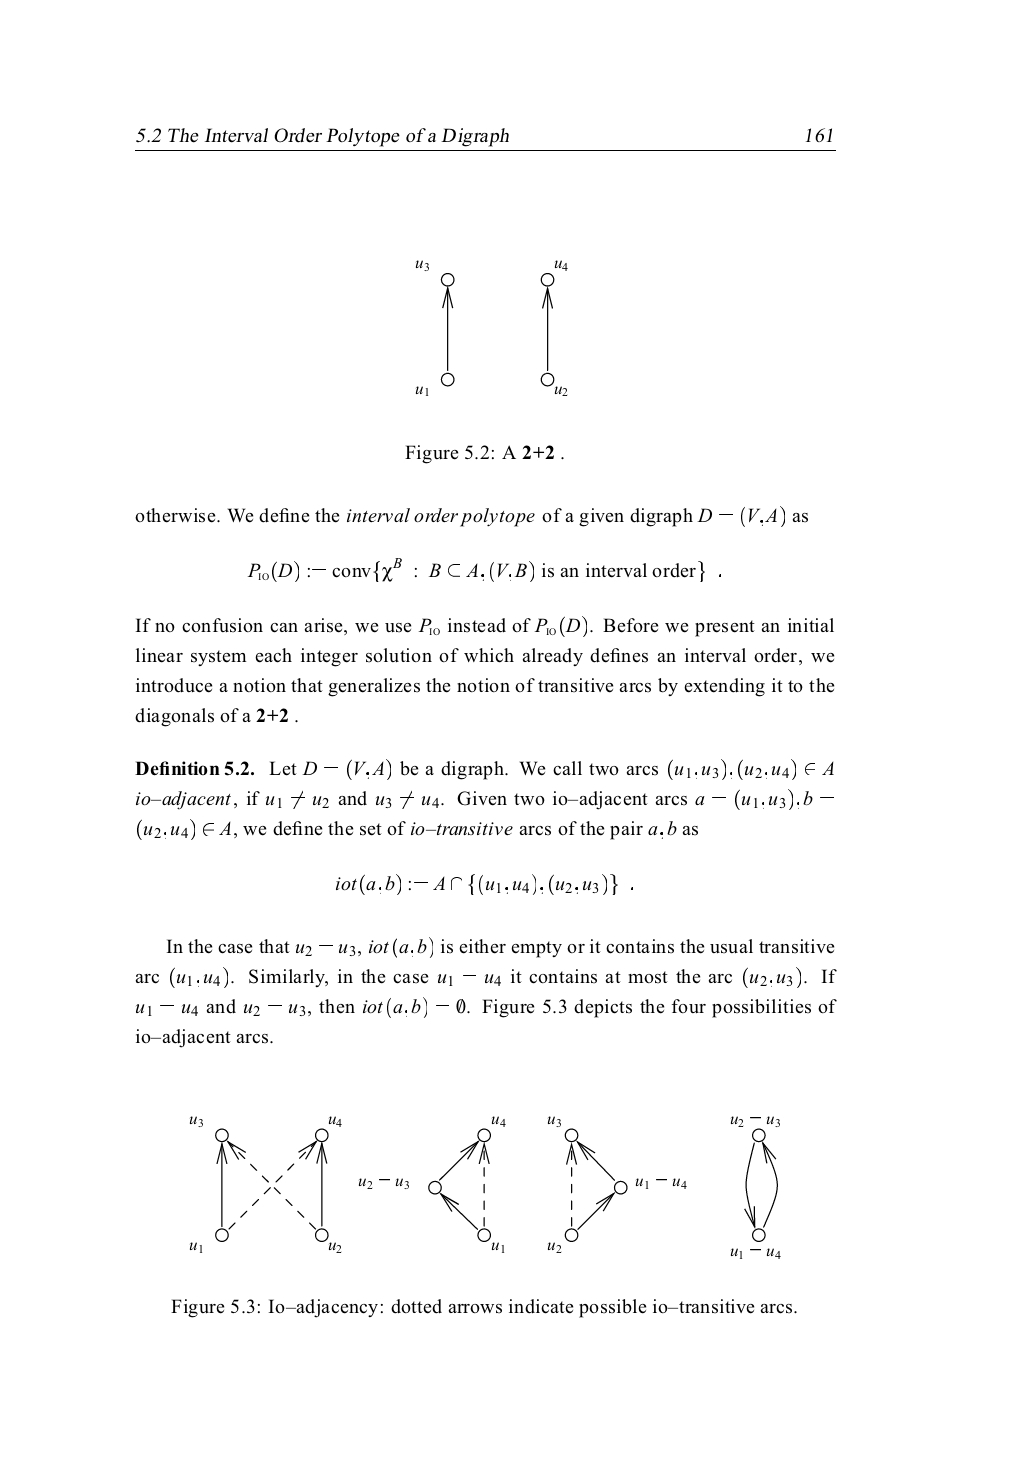figure: (189, 1115, 780, 1259), (415, 259, 567, 396)
formula: (247, 557, 720, 582), (335, 872, 632, 895)
